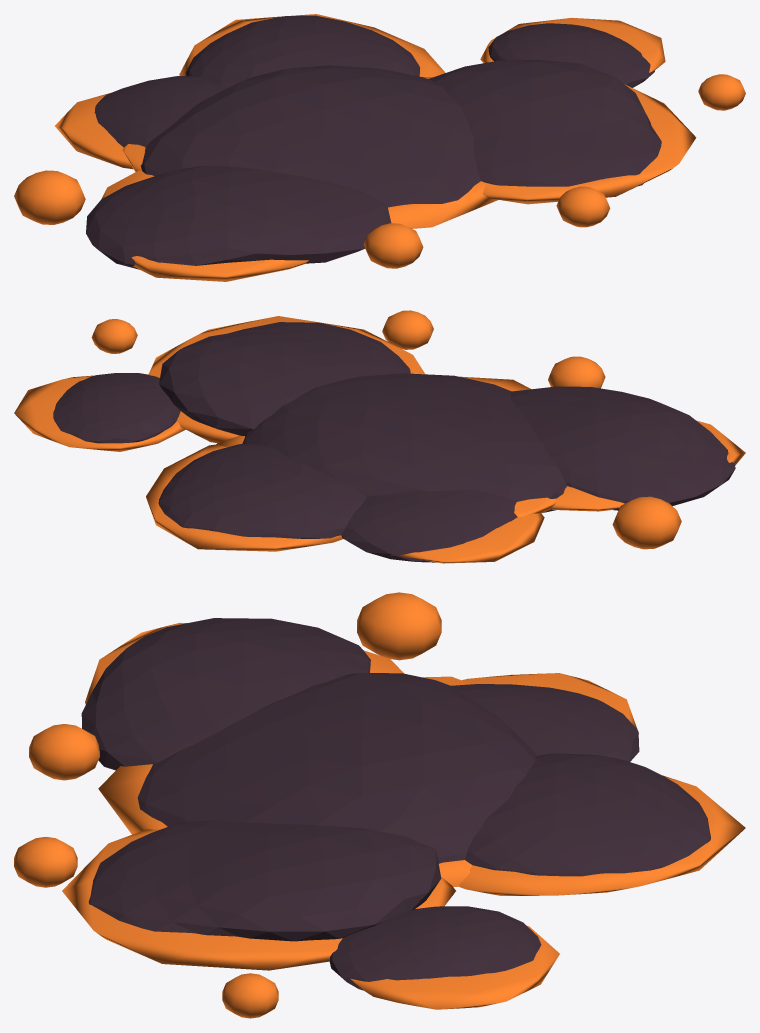
The model's file is LavaCrust.obj.
3 renders of one model, top to bottom at view 1: azimuth 30°, elevation 25°; view 2: azimuth 150°, elevation 25°; view 3: azimuth 270°, elevation 25°, orthographic. The views are drawn at different scales.
Visible parts, largest first — view 1: Crust, Glow; view 2: Crust, Glow; view 3: Crust, Glow.
Part boxes in pixels (x1,y1,x2,y2): Crust: [86, 15, 661, 269]; Glow: [14, 14, 745, 281]; Crust: [53, 322, 735, 562]; Glow: [14, 310, 745, 563]; Crust: [81, 618, 710, 990]; Glow: [14, 592, 745, 1018].
Bounding box in the file's own units: 25.5 × 2.19 × 19.67.
